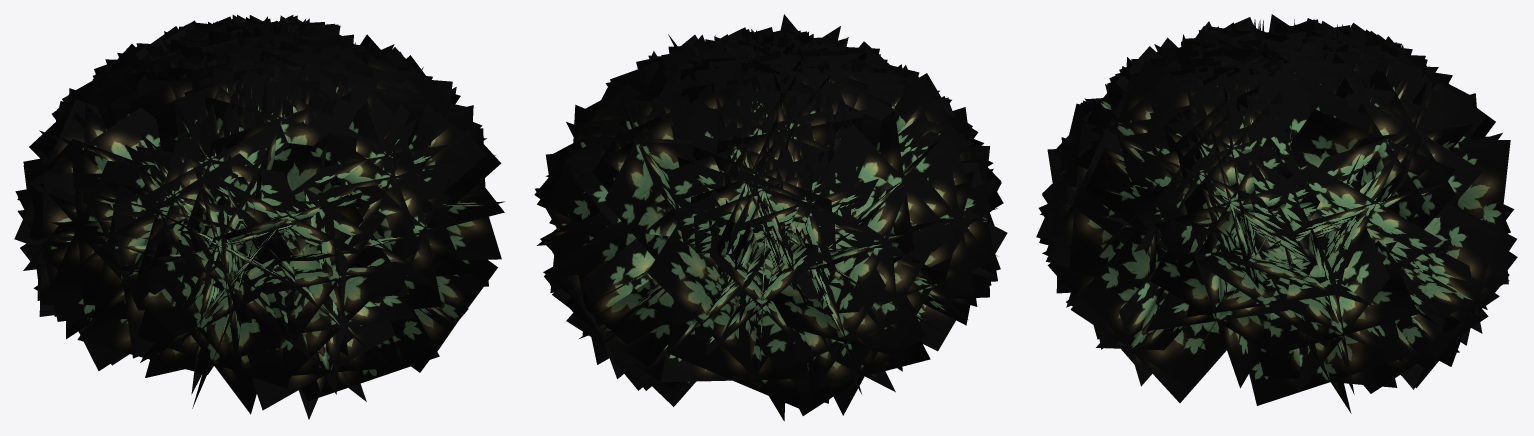
Rendered from brush.fbx.
3 renders of one model, left to right at view 1: azimuth 30°, elevation 25°; view 2: azimuth 150°, elevation 25°; view 3: azimuth 270°, elevation 25°, orthographic. The views are drawn at different scales.
Visible parts, largest first — view 1: leaf.081; view 2: leaf.081; view 3: leaf.081.
Boxes of the visible parts, x1,y1,x2,y2 form: leaf.081: (14, 14, 504, 419); leaf.081: (534, 14, 1007, 421); leaf.081: (1036, 14, 1517, 413).
Bounding box in the file's own units: 3.23 × 3.22 × 2.37.
1 material, 1 textured.
